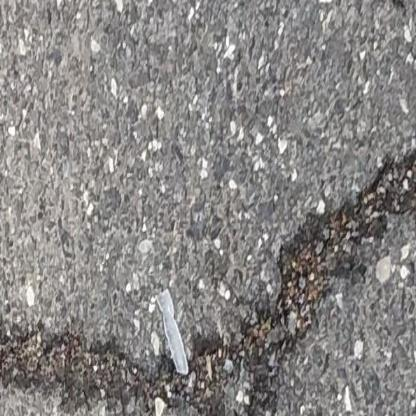Cracks: (0, 127, 416, 416)
